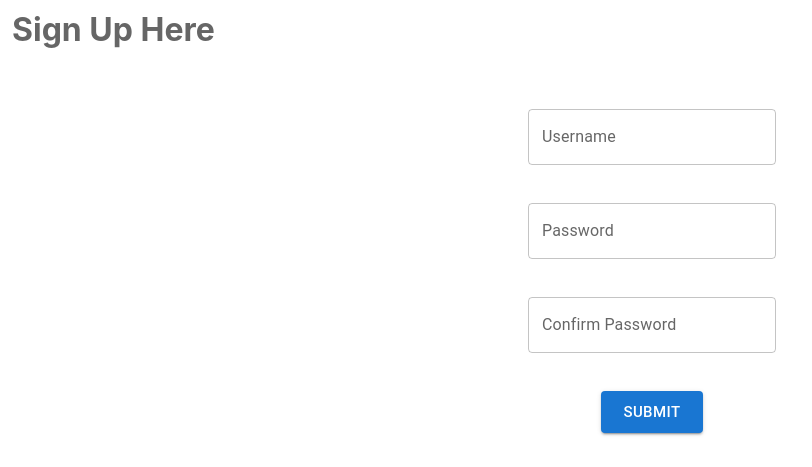
Test: with valid inputs › correctly displays errors for invalid form fields
The image size is (812, 467).
Expected: the text "username is required" is not shown
Expected: the text "needs one special character and one number" is not shown
Click the button "SUBMIT" at [652, 412], box top-left (601, 391), bottom-right (703, 433)
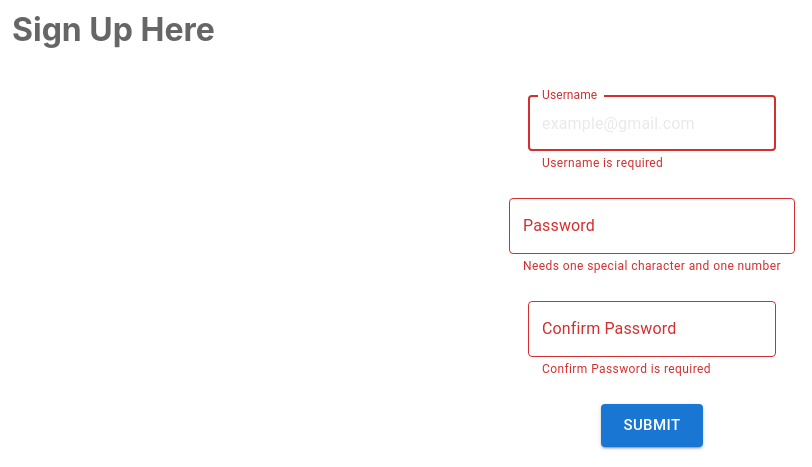
Result: the text "Username is required" is shown at top-left (542, 156), bottom-right (663, 170)
Result: the text "Needs one special character and one number" is shown at top-left (523, 257), bottom-right (781, 277)
Result: the text "Confirm Password is required" is shown at top-left (542, 362), bottom-right (711, 376)
